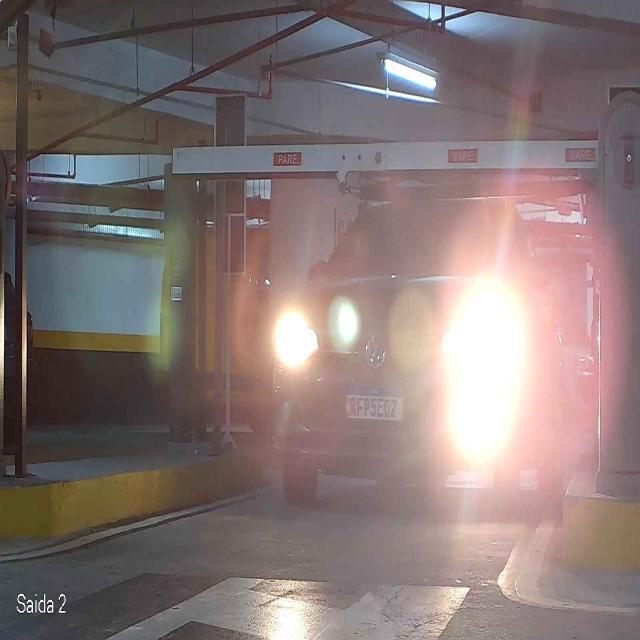mercosul_plate: (343, 386, 405, 422)
